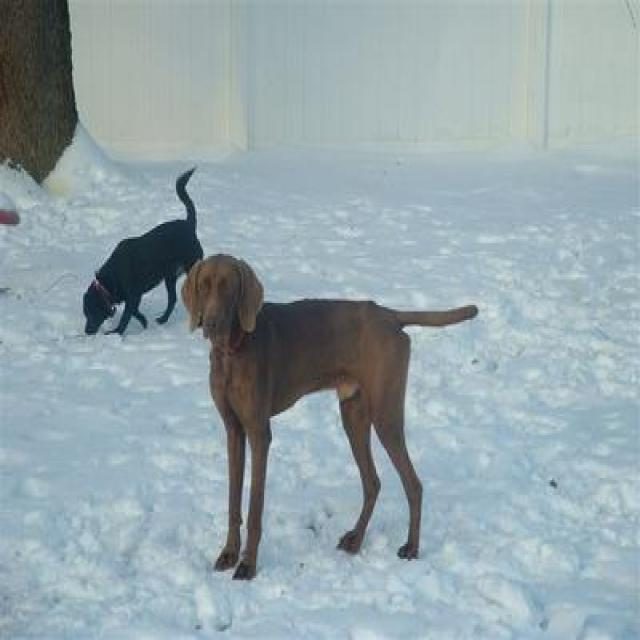Dogs: (180, 250, 478, 580), (82, 164, 203, 335)
